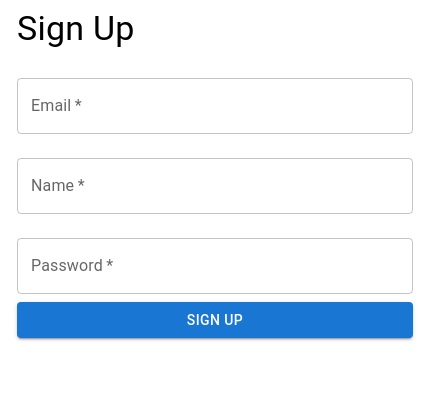
Signup Component › displays error message for weak password
# Fill the form with a weak password
In the field labelled "Email *": (215, 106) [17, 78, 413, 134], type "test@example.com"
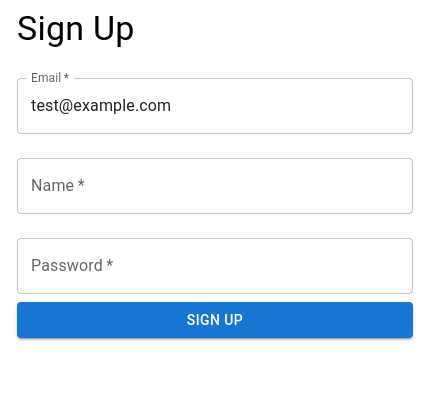
In the field labelled "Name *": (215, 186) [17, 158, 413, 214], type "Test User"
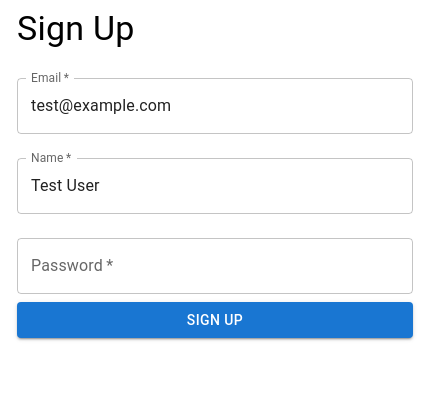
In the password field labelled "Password *": (215, 266) [17, 238, 413, 294], type "weak"
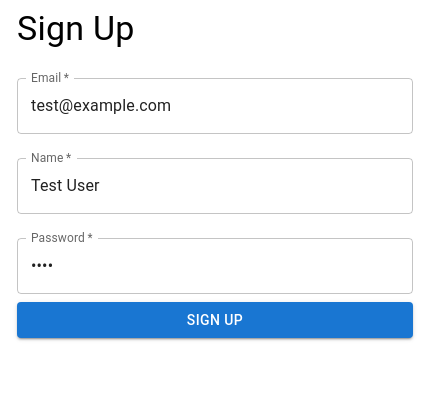
# Submit the form
Click the button "Sign Up": (215, 320) [17, 302, 413, 338]
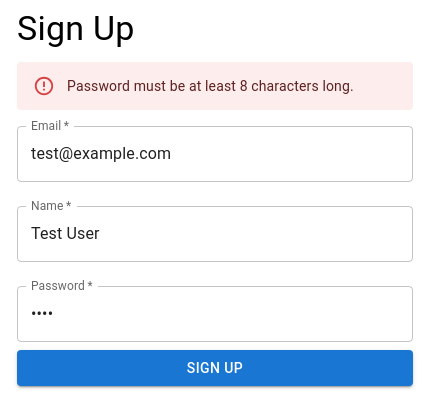
Result: the text "Password must be at least 8 characters long." is shown at [67, 78, 354, 94]
